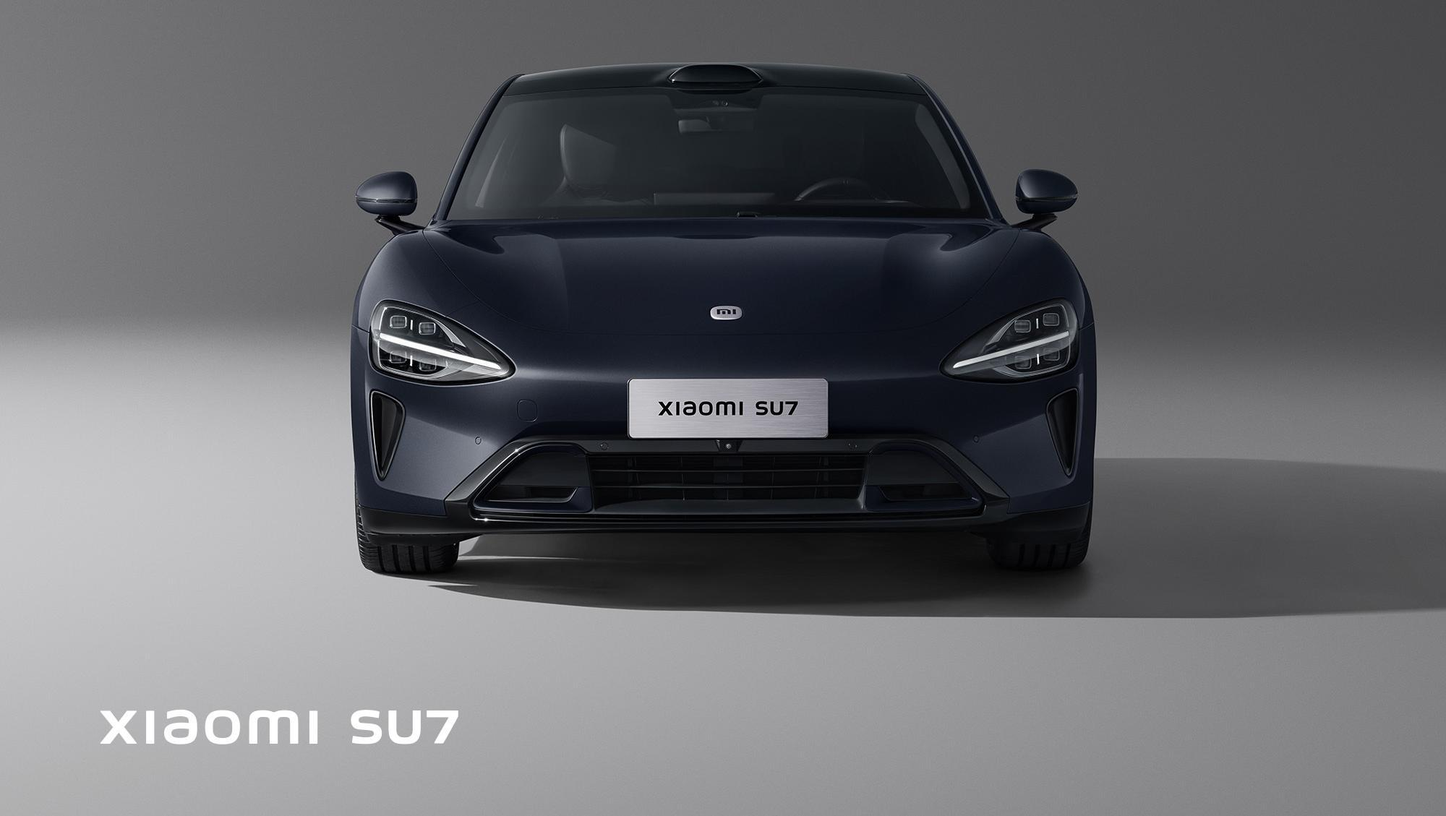XIAOMI: (709, 303, 743, 320)
